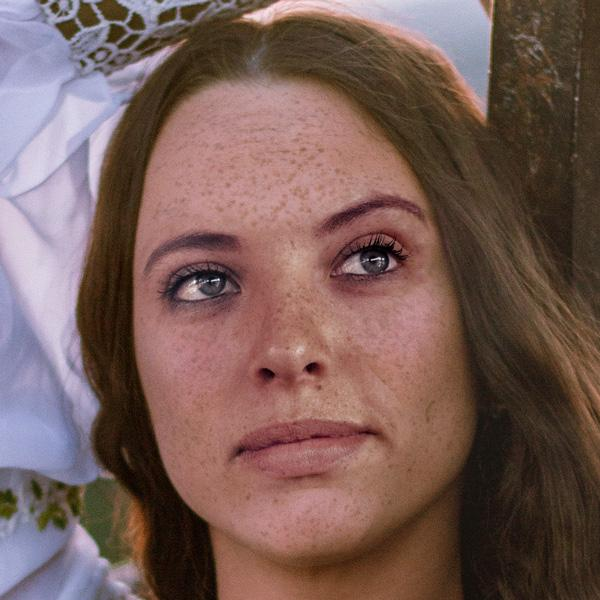Eyes: (324, 224, 424, 298), (151, 253, 252, 318)
